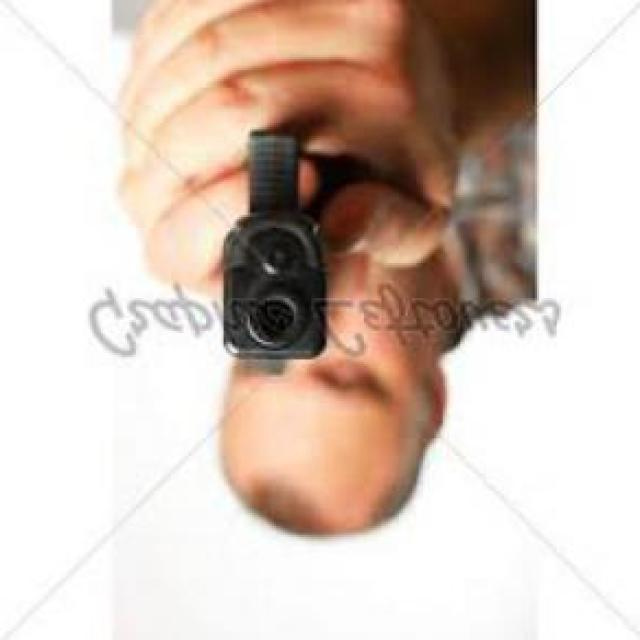pistol: (215, 122, 335, 384)
